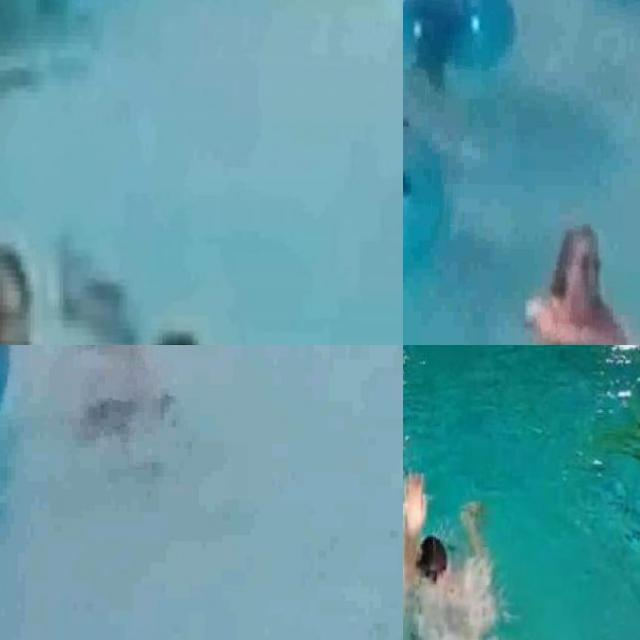drowning: (24, 197, 182, 345), (17, 345, 213, 450), (403, 461, 494, 640), (403, 80, 453, 160)
swimming: (500, 222, 632, 345), (0, 259, 72, 345)
